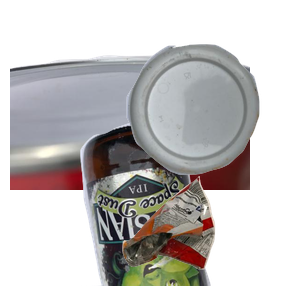glass: (78, 120, 281, 300)
metal: (10, 52, 250, 232)
plastic: (124, 42, 300, 210)
trash: (120, 174, 300, 300)
